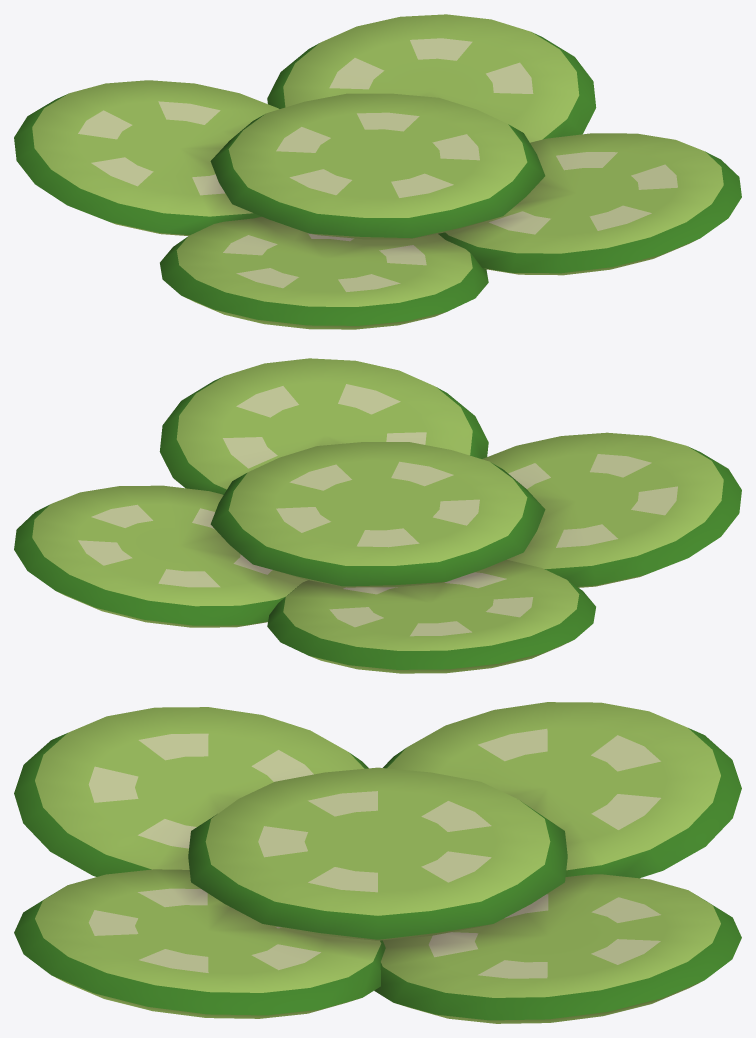
The model's file is pickle.glb.
3 views of the same model, one above another, from view 1: azimuth 30°, elevation 25°; view 2: azimuth 150°, elevation 25°; view 3: azimuth 270°, elevation 25° (orthographic). The views are drawn at different scales.
Visible parts, largest first — view 1: body; view 2: body; view 3: body.
Part boxes in pixels (x1,y1,x2,y2): body: (14,14,741,329); body: (14,358,741,673); body: (14,702,741,1023).
Bounding box in the file's own units: 0.7159 × 0.07 × 0.7159.
